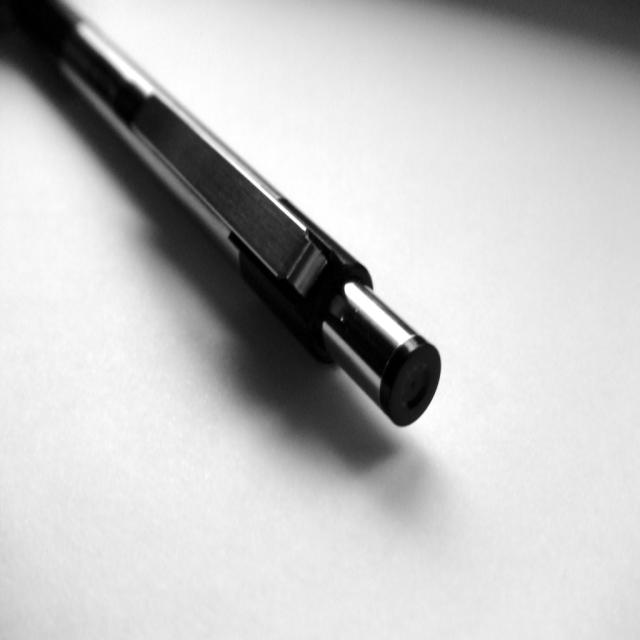pen: (0, 0, 443, 427)
